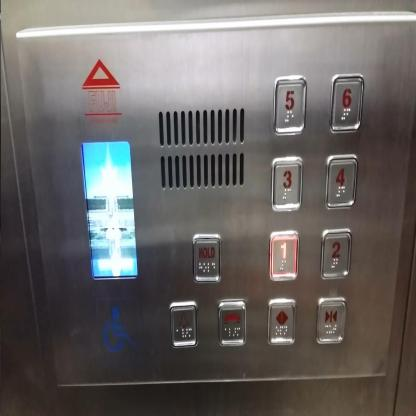1: (268, 228, 300, 283)
2: (318, 228, 352, 281)
3: (270, 156, 303, 214)
4: (324, 152, 358, 211)
5: (272, 75, 306, 137)
6: (328, 71, 364, 134)
CH: (95, 296, 136, 362)
alarm: (168, 300, 199, 347)
call: (217, 298, 247, 348)
close: (314, 296, 346, 345)
led: (79, 139, 139, 281)
open: (266, 297, 296, 346)
text_HOLD: (191, 233, 223, 284)
